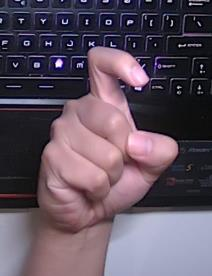anticlockwise: (31, 43, 183, 227)
